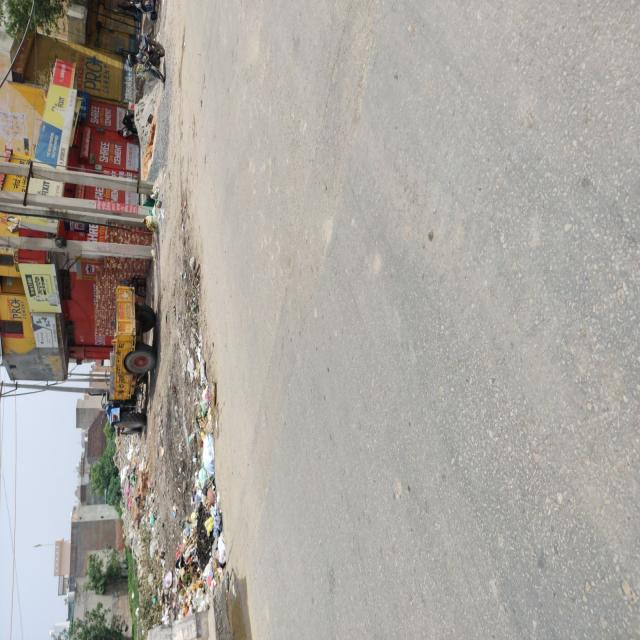Motorcycle: (420, 177, 454, 224)
Tractor: (147, 124, 266, 213)
